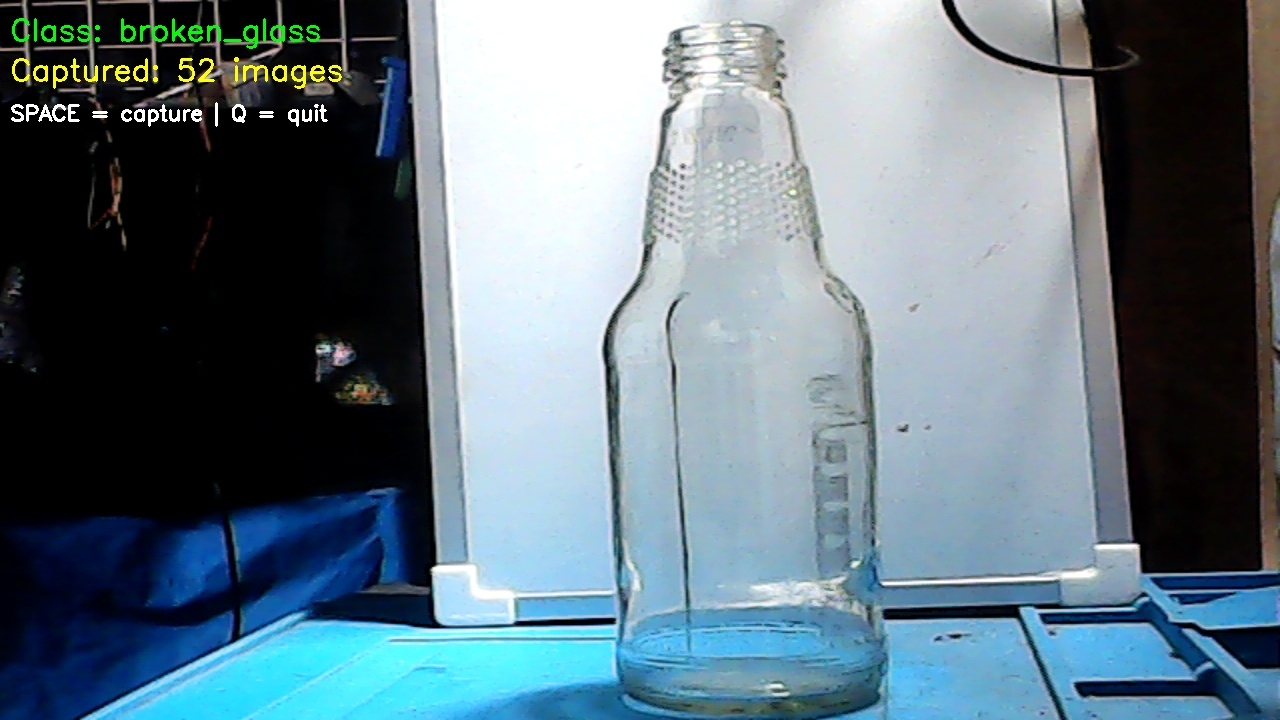broken_glass: (594, 25, 897, 711)
